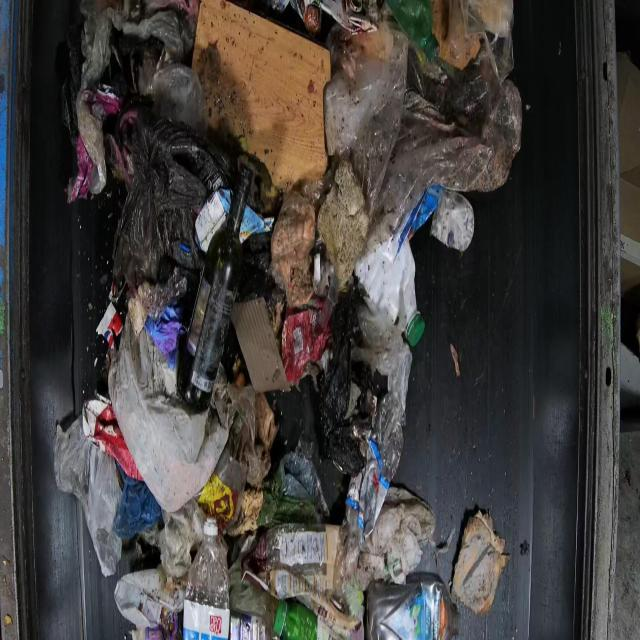bottles: (175, 165, 255, 412), (181, 516, 231, 639)
cardboard: (189, 0, 332, 199)
other-trash: (54, 0, 522, 638)
